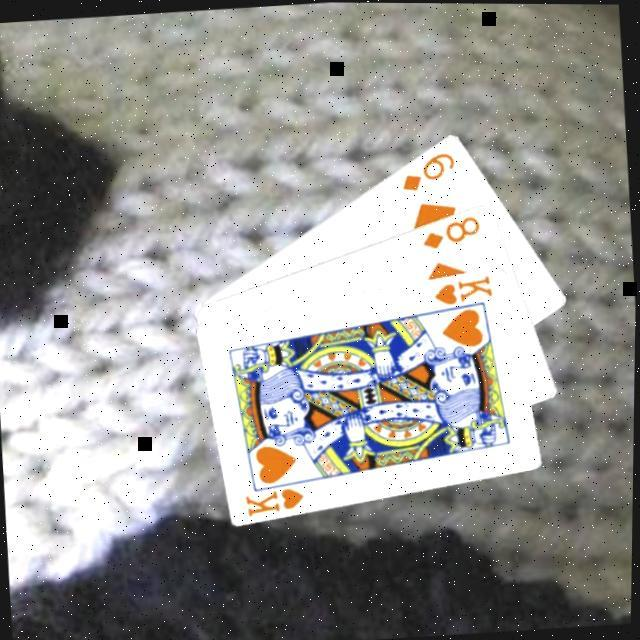6D: (396, 147, 460, 195)
8D: (418, 210, 484, 252)
KH: (240, 482, 308, 519), (430, 272, 496, 308)
